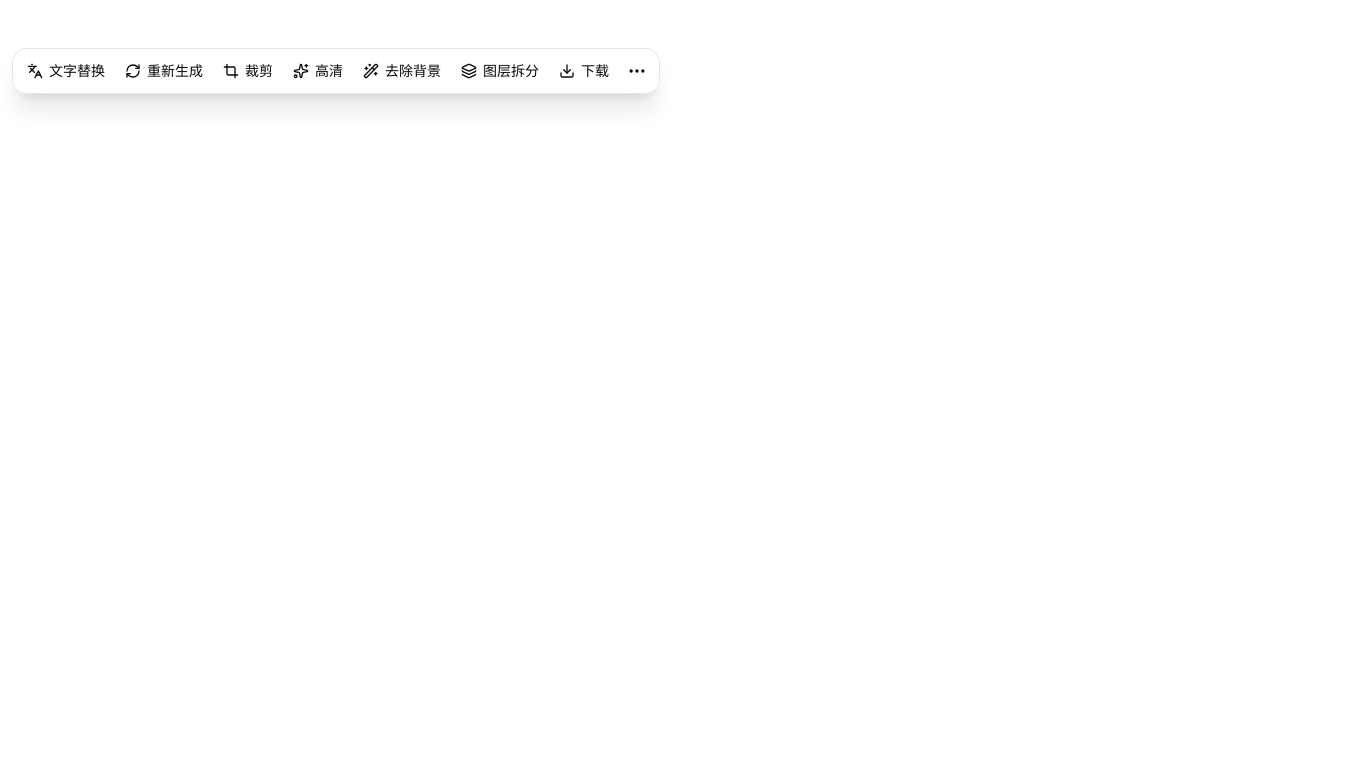
Scenario: explains an empty element listing without leaving the split panel
Click the button "图层拆分". click: {"x": 500, "y": 71}
box: x1=451 y1=53 x2=549 y2=89
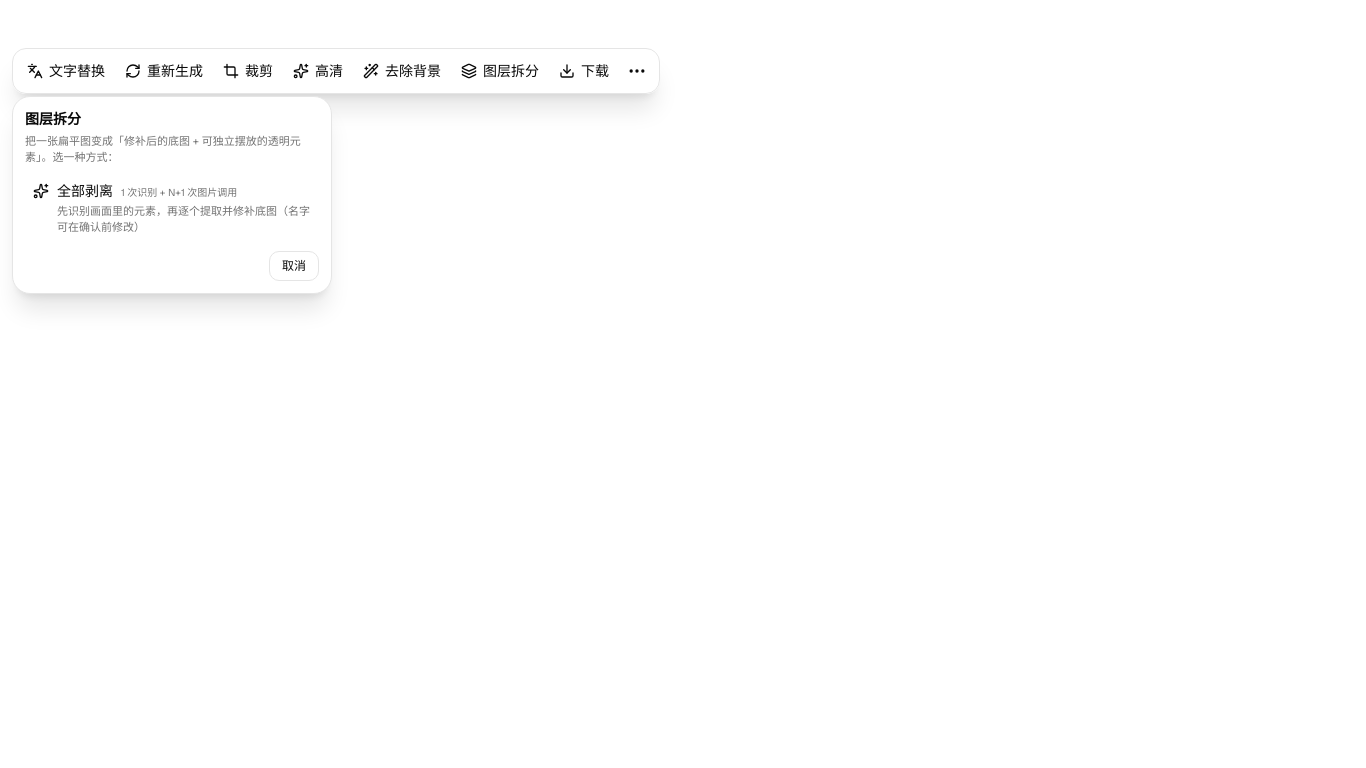
Click the text "全部剥离". click: {"x": 85, "y": 191}
box: x1=57 y1=181 x2=113 y2=201
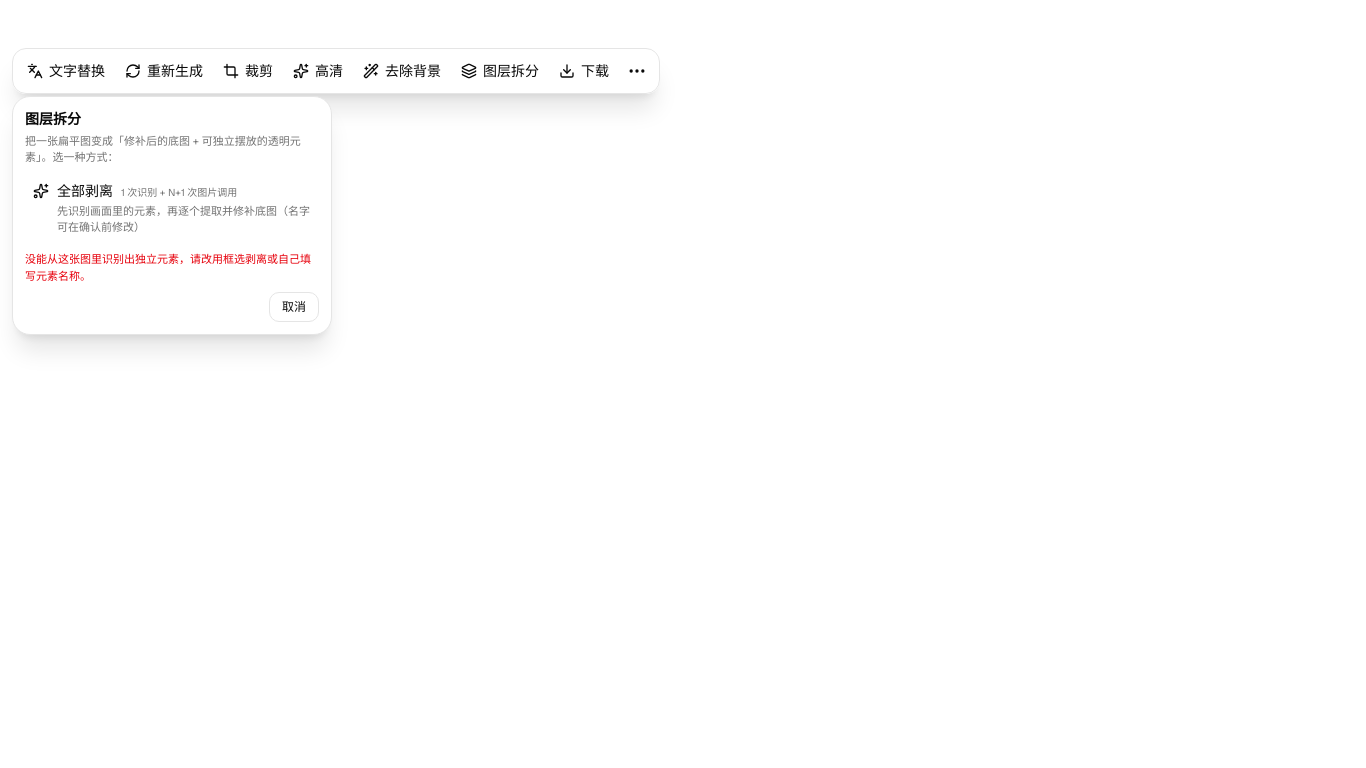
Now the dialog with test id "layer-split-menu" is shown, box x1=12 y1=96 x2=332 y2=335
Now the message reads "没能从这张图里识别出独立元素，请改用框选剥离或自己填写元素名称。", box x1=25 y1=252 x2=311 y2=282
